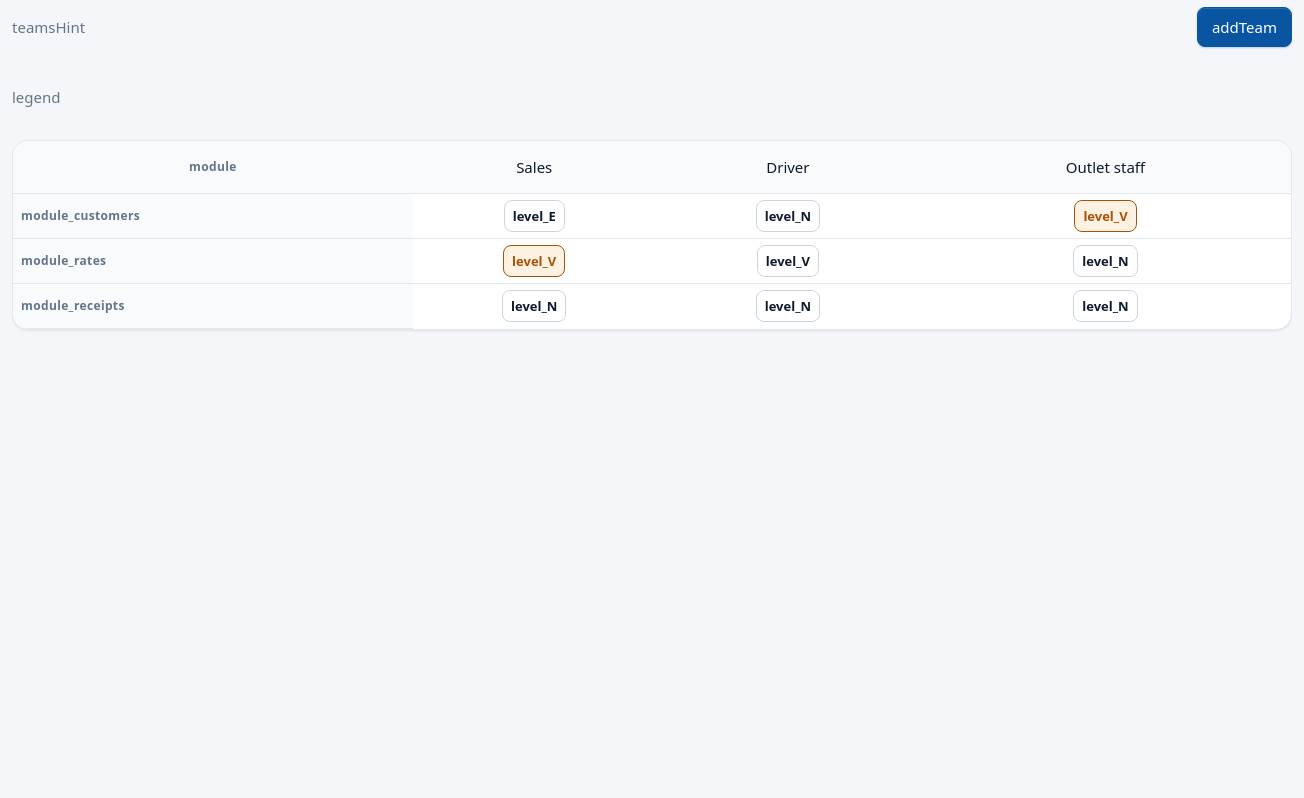
Test: TeamsTab › lets the owner give the outlet staff team any permission, with its warnings
The image size is (1304, 798).
Click the button "Outlet staff".
click(1106, 167)  # box 1051,147 -> 1160,187
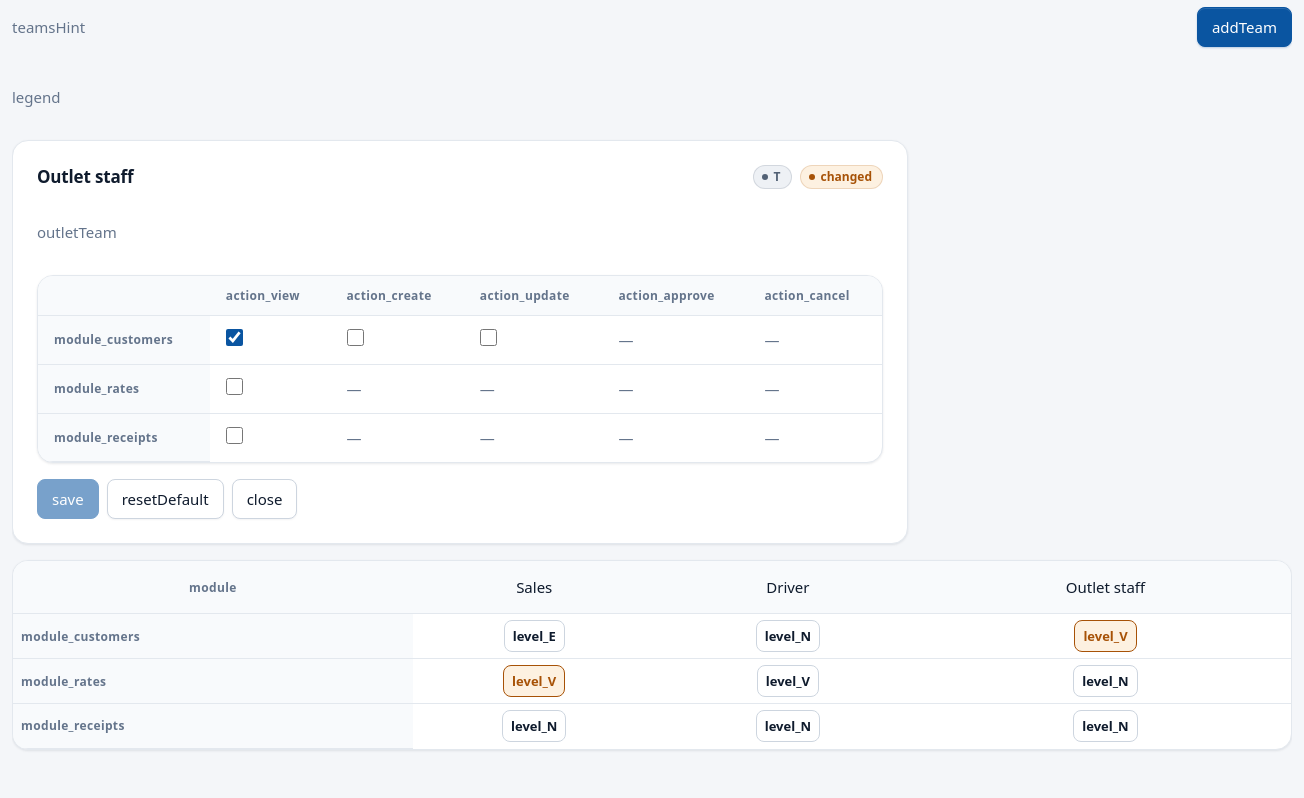
Expected: the text "outletNotReady" is not shown
Expected: the text "outletTeam" is shown, 37,222 -> 117,242
Note: A permission whose screens do not filter by outlet yet, and a finance one: both warned.
Click the checkbox named "module_receipts · action_view".
click(234, 435)  # box 226,427 -> 243,444
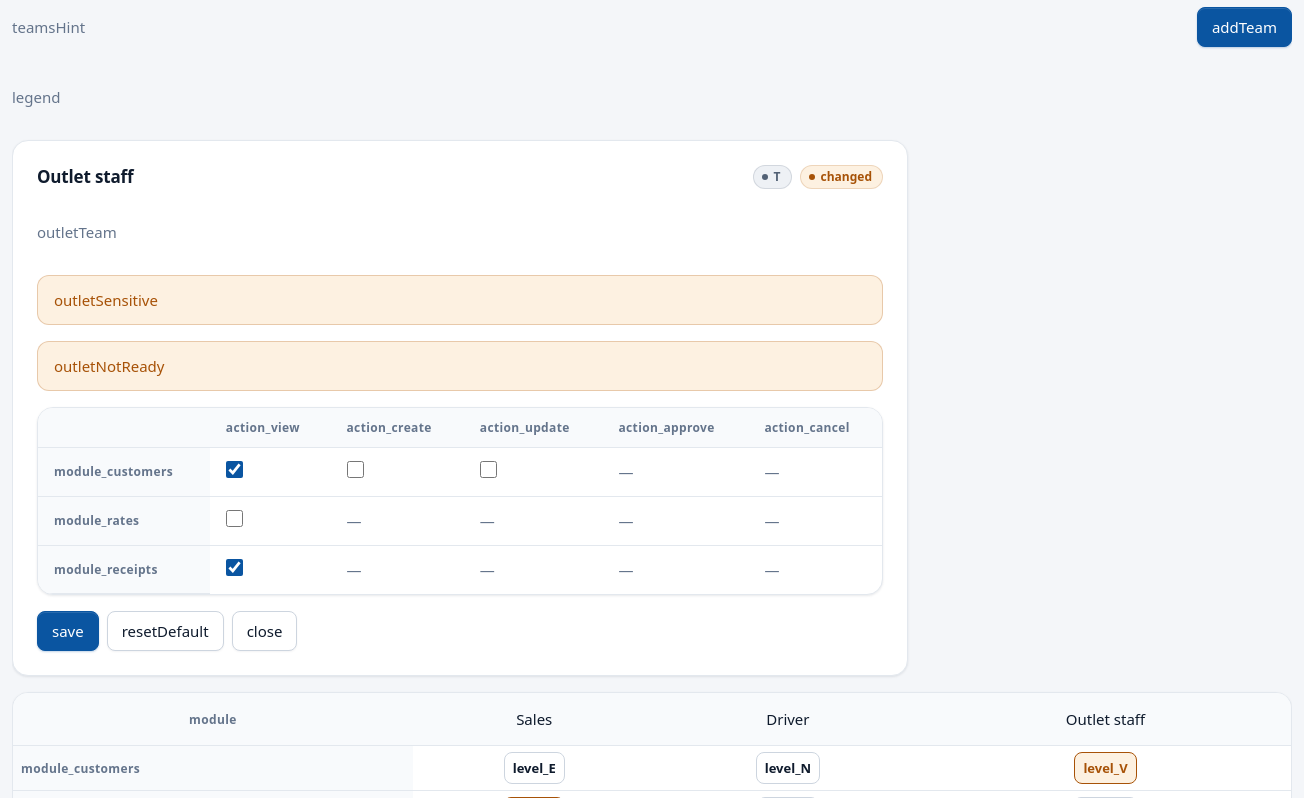
Expected: the text "outletNotReady" is shown, 37,341 -> 883,391
Expected: the text "outletSensitive" is shown, 37,275 -> 883,325
